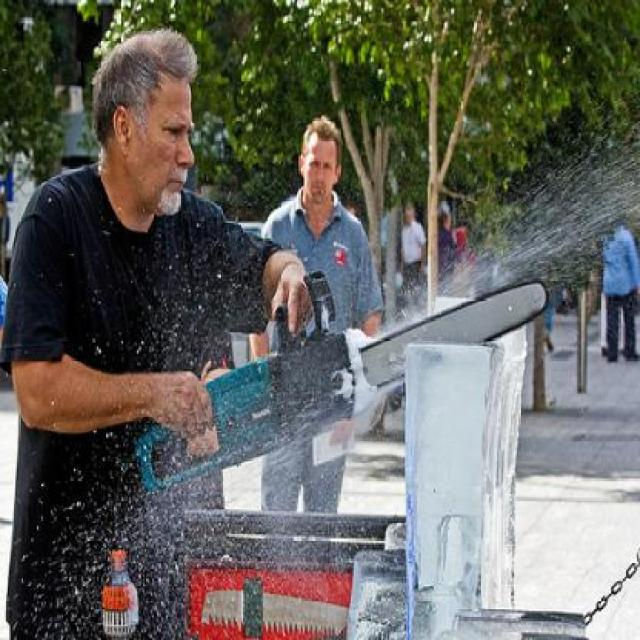Chainsaw: (139, 279, 550, 490)
